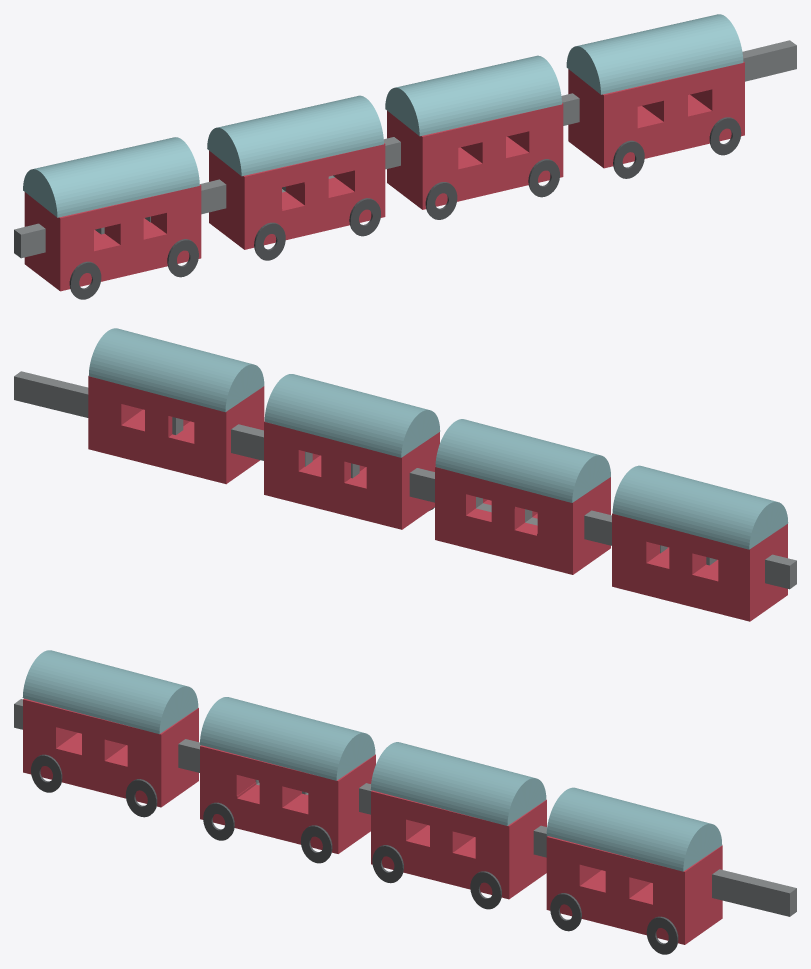
Rendered from train.glb.
3 views of the same model, one above another, from view 1: azimuth 30°, elevation 25°; view 2: azimuth 150°, elevation 25°; view 3: azimuth 330°, elevation 25° (orthographic).
Parts seen in each view (by area): view 1: Mesh_Mesh_head_geo.001_lambert2SG.001; view 2: Mesh_Mesh_head_geo.001_lambert2SG.001; view 3: Mesh_Mesh_head_geo.001_lambert2SG.001.
Part boxes in pixels (bbox=[...]): Mesh_Mesh_head_geo.001_lambert2SG.001: bbox=[14, 14, 796, 299]; Mesh_Mesh_head_geo.001_lambert2SG.001: bbox=[14, 328, 796, 621]; Mesh_Mesh_head_geo.001_lambert2SG.001: bbox=[14, 650, 796, 954].
Size of the model in its own units: 378 by 55.06 by 43.35.
